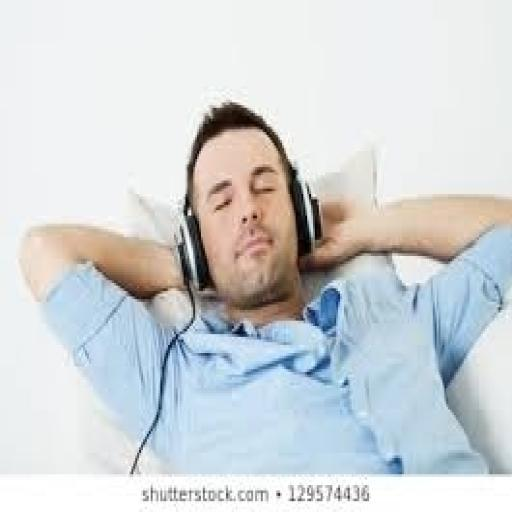listening_to_music: (16, 97, 510, 474)
